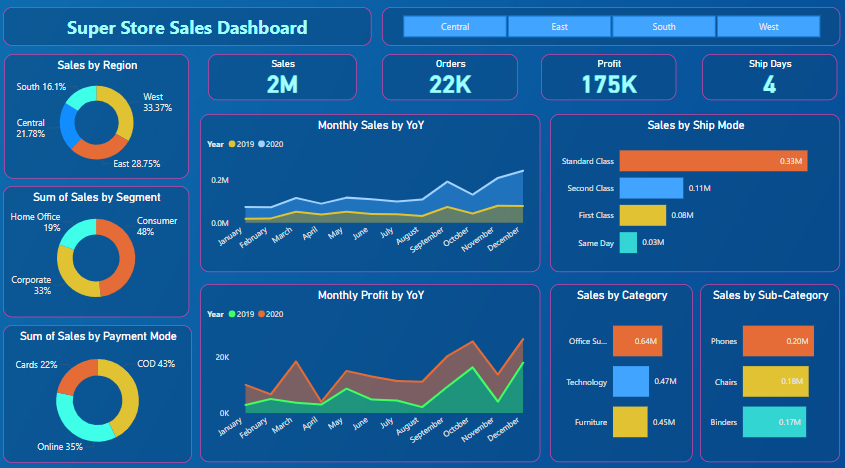

Layout of this report page (visuals, bound fields, positions):
{"tool":"powerbi","page":{"name":"Page 1","canvas":[1280,720],"ordinal":0},"visuals":[{"type":"clusteredBarChart","title":" Sales by Category","fields":{"Y":["Sum(SuperStore_Sales_Dataset.Sales)"],"Category":["SuperStore_Sales_Dataset.Category"]},"box":[829.4,433.4,213.1,266.4],"z":0},{"type":"clusteredBarChart","title":" Sales by Sub-Category","fields":{"Y":["Sum(SuperStore_Sales_Dataset.Sales)"],"Category":["SuperStore_Sales_Dataset.Sub-Category"]},"box":[1054.1,433.4,208.8,266.4],"z":1000},{"type":"clusteredBarChart","title":" Sales by Ship Mode","fields":{"Y":["Sum(SuperStore_Sales_Dataset.Sales)"],"Category":["SuperStore_Sales_Dataset.Ship Mode"]},"box":[829.4,178.6,433.4,236.2],"z":2000},{"type":"stackedAreaChart","title":"Monthly Sales by YoY","fields":{"Y":["Sum(SuperStore_Sales_Dataset.Sales)"],"Category":["SuperStore_Sales_Dataset.Order Date.Variation.Date Hierarchy.Month","SuperStore_Sales_Dataset.Order Date.Variation.Date Hierarchy.Day"],"Series":["SuperStore_Sales_Dataset.Order Date.Variation.Date Hierarchy.Year"]},"box":[308.2,178.6,508.3,236.2],"z":3000},{"type":"stackedAreaChart","title":"Monthly Profit by YoY","fields":{"Category":["SuperStore_Sales_Dataset.Order Date.Variation.Date Hierarchy.Month","SuperStore_Sales_Dataset.Order Date.Variation.Date Hierarchy.Day"],"Series":["SuperStore_Sales_Dataset.Order Date.Variation.Date Hierarchy.Year"],"Y":["Sum(SuperStore_Sales_Dataset.Profit)"]},"box":[308.2,433.4,508.3,266.4],"z":4000},{"type":"donutChart","fields":{"Category":["SuperStore_Sales_Dataset.Segment"],"Y":["Sum(SuperStore_Sales_Dataset.Sales)"]},"box":[13,286.6,277.9,195.8],"z":5000},{"type":"donutChart","fields":{"Category":["SuperStore_Sales_Dataset.Payment Mode"],"Y":["Sum(SuperStore_Sales_Dataset.Sales)"]},"box":[13,493.9,282.2,205.9],"z":6000},{"type":"slicer","fields":{"Values":["SuperStore_Sales_Dataset.Region"]},"box":[578.9,18.7,684,57.6],"z":7000},{"type":"textbox","box":[13,18.7,550.1,57.6],"z":8000},{"type":"card","title":"Sales","fields":{"Values":["Sum(SuperStore_Sales_Dataset.Sales)"]},"box":[319.7,89.3,221.8,69.1],"z":9000},{"type":"card","title":"Orders","fields":{"Values":["Sum(SuperStore_Sales_Dataset.Quantity)"]},"box":[578.9,89.3,203,69.1],"z":10000},{"type":"card","title":"Profit","fields":{"Values":["Sum(SuperStore_Sales_Dataset.Profit)"]},"box":[816.5,89.3,201.6,69.1],"z":11000},{"type":"card","title":"Ship Days","fields":{"Values":["Avg(SuperStore_Sales_Dataset.AvgDelivery)"]},"box":[1057,89.3,201.6,69.1],"z":12000},{"type":"donutChart","title":" Sales by Region","fields":{"Category":["SuperStore_Sales_Dataset.Region"],"Y":["Sum(SuperStore_Sales_Dataset.Sales)"]},"box":[14.4,89.3,276.5,185.8],"z":13000}]}

Visuals, with their boxes in screenshot pixels (x1, y1, x2, y2), scaled from the page's 1280x720 canvas onto the 845x468 screenshot:
" Sales by Category" clusteredBarChart: bbox(548, 282, 688, 455)
" Sales by Sub-Category" clusteredBarChart: bbox(696, 282, 834, 455)
" Sales by Ship Mode" clusteredBarChart: bbox(548, 116, 834, 270)
"Monthly Sales by YoY" stackedAreaChart: bbox(203, 116, 539, 270)
"Monthly Profit by YoY" stackedAreaChart: bbox(203, 282, 539, 455)
donutChart - SuperStore_Sales_Dataset.Segment x Sum(SuperStore_Sales_Dataset.Sales): bbox(9, 186, 192, 314)
donutChart - SuperStore_Sales_Dataset.Payment Mode x Sum(SuperStore_Sales_Dataset.Sales): bbox(9, 321, 195, 455)
slicer - SuperStore_Sales_Dataset.Region: bbox(382, 12, 834, 50)
textbox: bbox(9, 12, 372, 50)
"Sales" card: bbox(211, 58, 357, 103)
"Orders" card: bbox(382, 58, 516, 103)
"Profit" card: bbox(539, 58, 672, 103)
"Ship Days" card: bbox(698, 58, 831, 103)
" Sales by Region" donutChart: bbox(10, 58, 192, 179)
